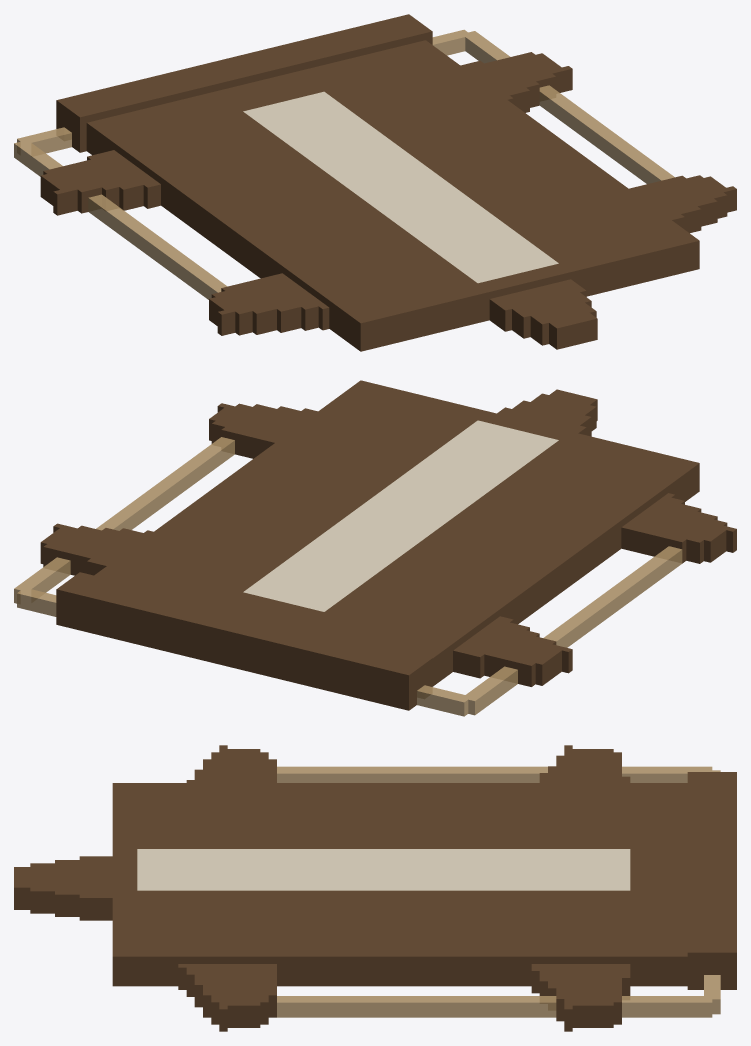
Rendered from loincloth_fur.glb.
3 views of the same model, one above another, from view 1: azimuth 30°, elevation 25°; view 2: azimuth 150°, elevation 25°; view 3: azimuth 270°, elevation 25° (orthographic). The views are drawn at different scales.
Parts seen in each view (by area): view 1: loincloth_fur:compound; view 2: loincloth_fur:compound; view 3: loincloth_fur:compound.
Boxes of the visible parts, box(x1,y1,x2,y2) form: loincloth_fur:compound: box(14, 14, 736, 351); loincloth_fur:compound: box(14, 380, 736, 716); loincloth_fur:compound: box(14, 745, 736, 1031).
Size of the model in its own units: 0.304 by 0.02 by 0.352.
